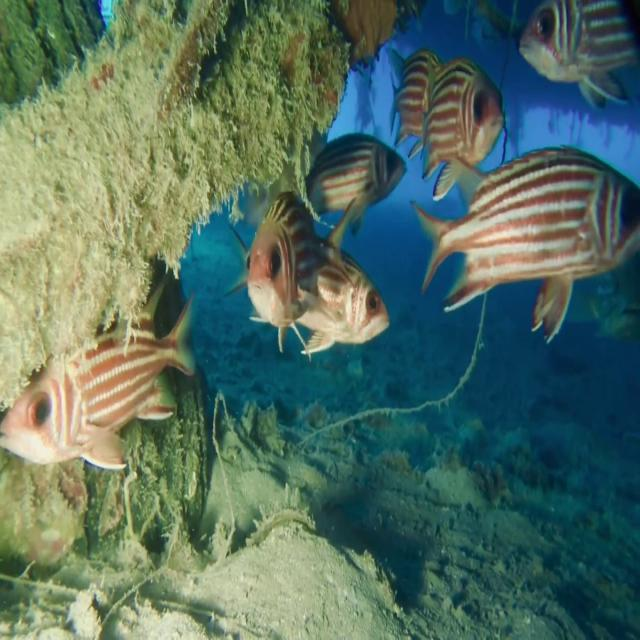Asker Baligi: (410, 143, 638, 343), (1, 283, 197, 473), (224, 187, 390, 361)
